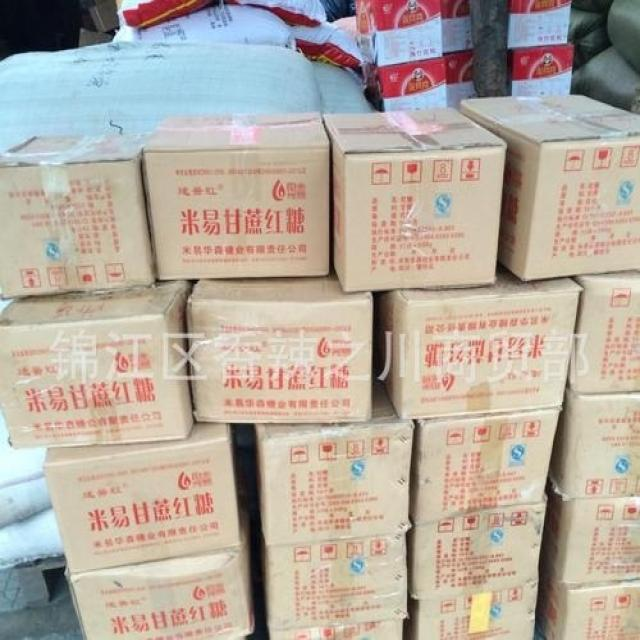box: (323, 106, 508, 291), (460, 93, 640, 281), (0, 280, 196, 449), (374, 260, 584, 417), (141, 113, 330, 281), (44, 422, 242, 575), (183, 277, 374, 422), (253, 381, 413, 547), (1, 132, 156, 298), (64, 508, 257, 640), (412, 406, 563, 523), (261, 531, 410, 632), (410, 502, 545, 601), (540, 479, 640, 587), (550, 390, 639, 498), (536, 552, 640, 639), (568, 270, 640, 394), (403, 580, 538, 640), (355, 0, 440, 64), (370, 57, 445, 110), (506, 43, 573, 96), (508, 0, 571, 50), (268, 619, 403, 640), (442, 50, 480, 110), (440, 1, 475, 53)
